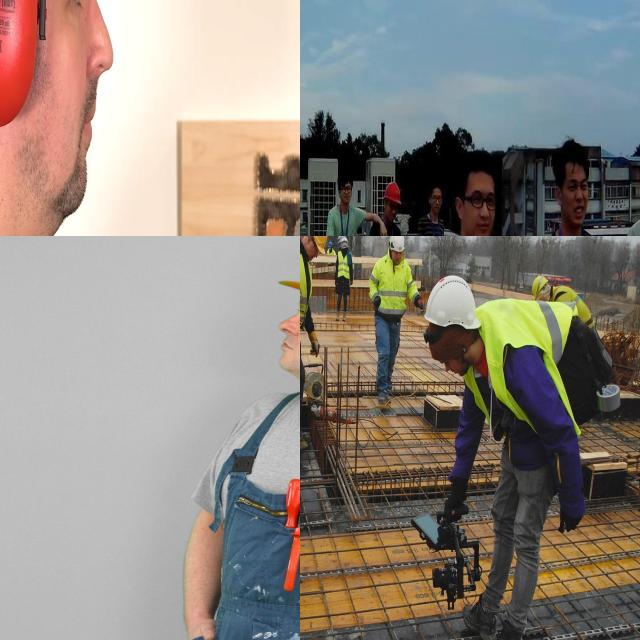Ear-protection: (0, 0, 46, 119)
No_Ear-Protection: (453, 141, 496, 236), (552, 134, 590, 232), (336, 168, 357, 213), (425, 179, 446, 223)
No_Glasses: (55, 0, 100, 25)
face_nomask: (442, 336, 468, 388), (308, 236, 321, 266), (390, 250, 405, 266)
hand_glove: (441, 475, 477, 525), (555, 486, 588, 538), (308, 330, 326, 360)
head_helmet: (425, 276, 477, 331), (305, 236, 326, 250), (389, 236, 403, 250)
person: (424, 278, 559, 640), (0, 0, 118, 236), (371, 236, 416, 404), (528, 269, 601, 334), (300, 236, 317, 445), (336, 237, 355, 320)
shoes: (461, 592, 496, 640), (479, 624, 529, 640), (374, 382, 388, 408), (300, 419, 309, 459)
vest: (483, 300, 567, 418), (310, 322, 348, 382), (556, 285, 600, 329), (336, 256, 355, 284), (300, 249, 307, 321), (325, 250, 336, 257)
